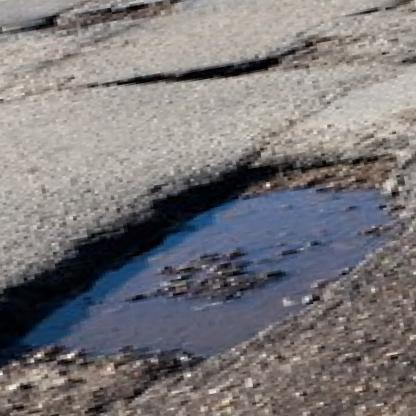pothole: (0, 131, 416, 416), (0, 0, 191, 51), (101, 49, 286, 99)
